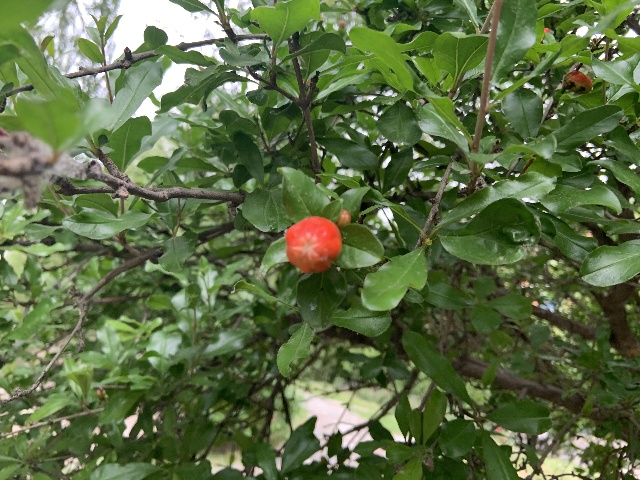bud: (285, 216, 342, 273), (564, 70, 592, 92), (336, 209, 351, 227)
